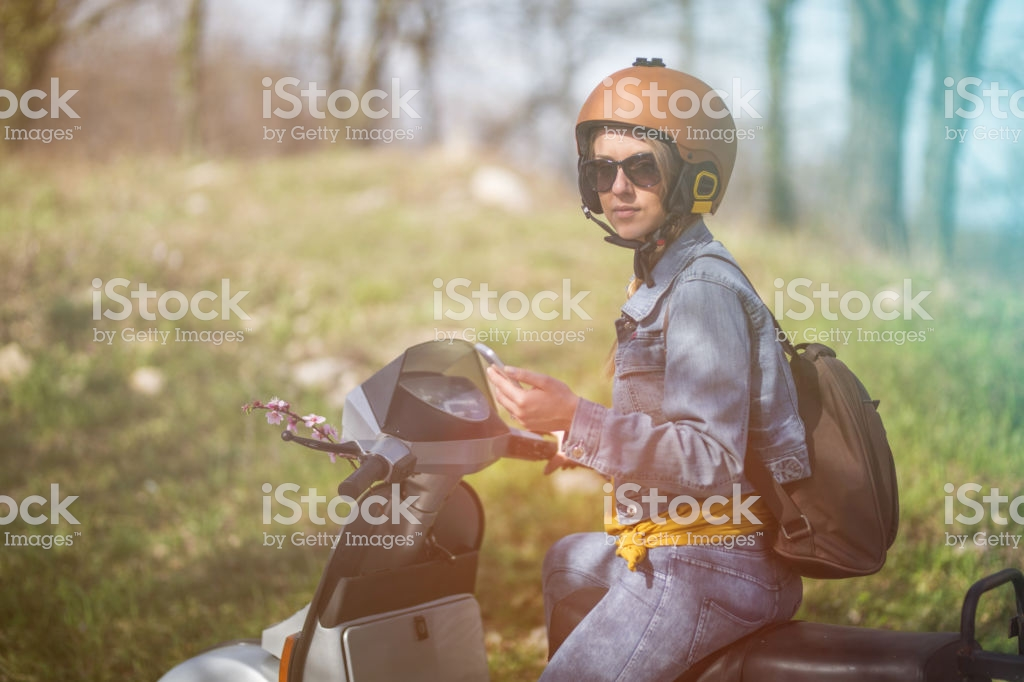helmet: (569, 63, 742, 215)
